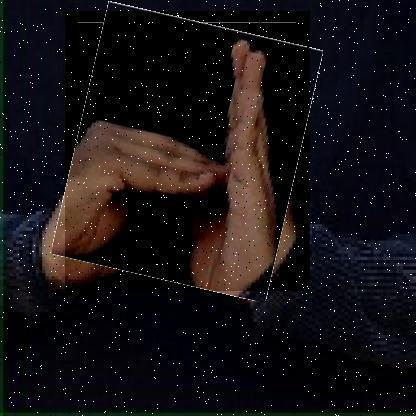Z: (64, 11, 310, 292)
